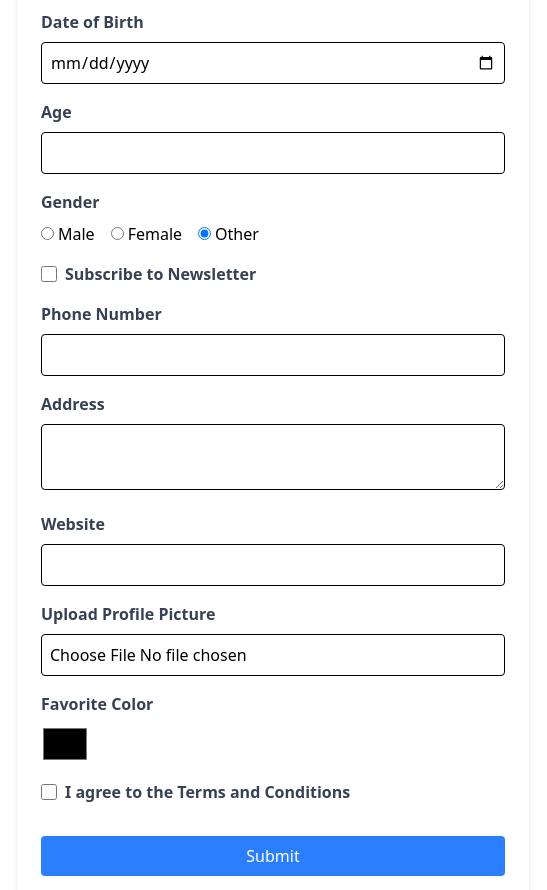
Test: validates required fields
(page scrolled)
Click the button "Submit": click(273, 856) x1=41 y1=836 x2=505 y2=876
(page scrolled)
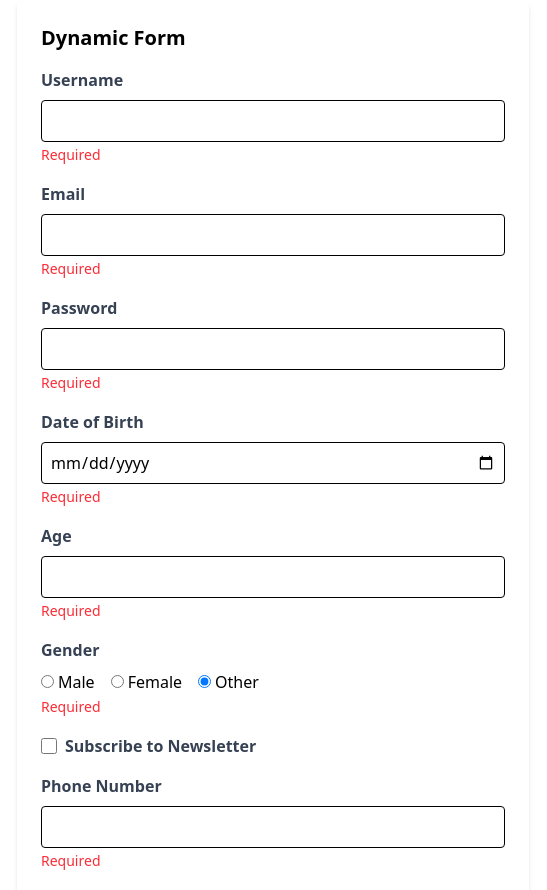
Check: the text "Required" below "Username" is shown, box x1=41 y1=145 x2=100 y2=164
